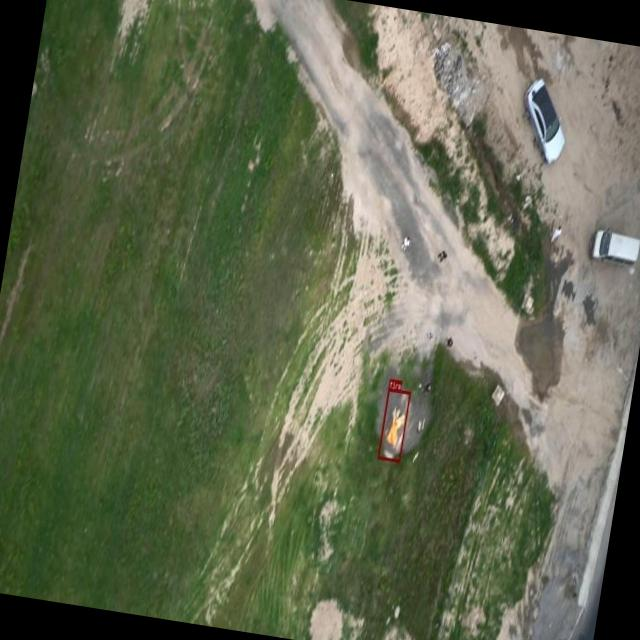fire: (377, 388, 411, 462)
